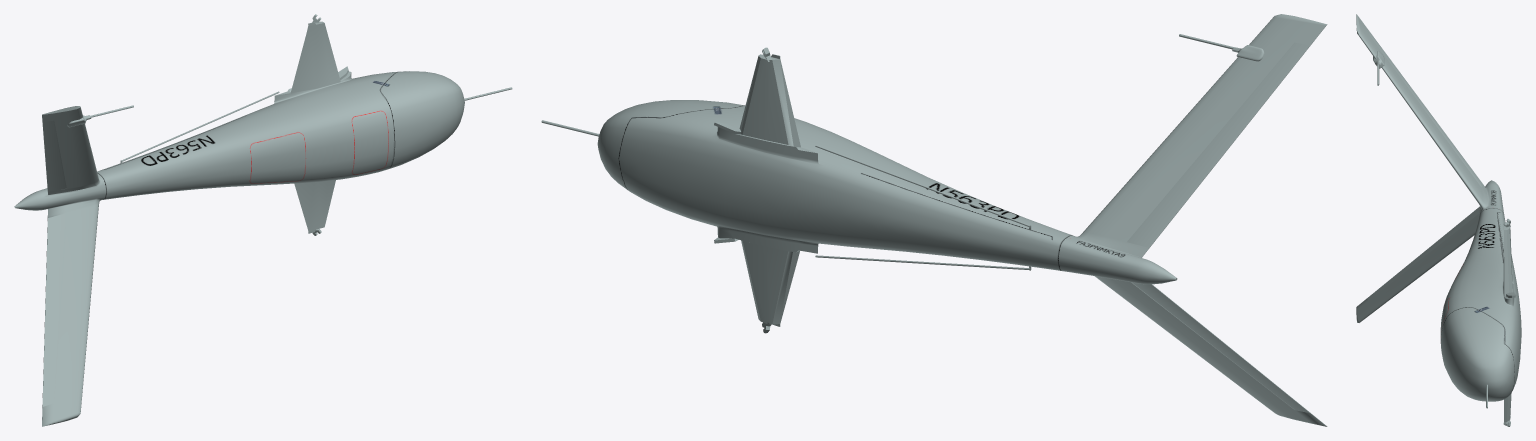
File: p4_fuselage.obj
The picture shows the model from 3 angles, left to right: view 1: azimuth 30°, elevation 25°; view 2: azimuth 150°, elevation 25°; view 3: azimuth 270°, elevation 25°; orthographic projection. The views are drawn at different scales.
Parts seen in each view (by area): view 1: mesh_0_Box001_Material_#51_0; view 2: mesh_0_Box001_Material_#51_0; view 3: mesh_0_Box001_Material_#51_0.
Part boxes in pixels (x1=…): mesh_0_Box001_Material_#51_0: x1=14, y1=14, x2=512, y2=426; mesh_0_Box001_Material_#51_0: x1=541, y1=14, x2=1327, y2=426; mesh_0_Box001_Material_#51_0: x1=1356, y1=14, x2=1521, y2=426.
Bounding box in the file's own units: 2.45 × 1.36 × 0.6925.
Materials: 1 (1 with a texture image).
